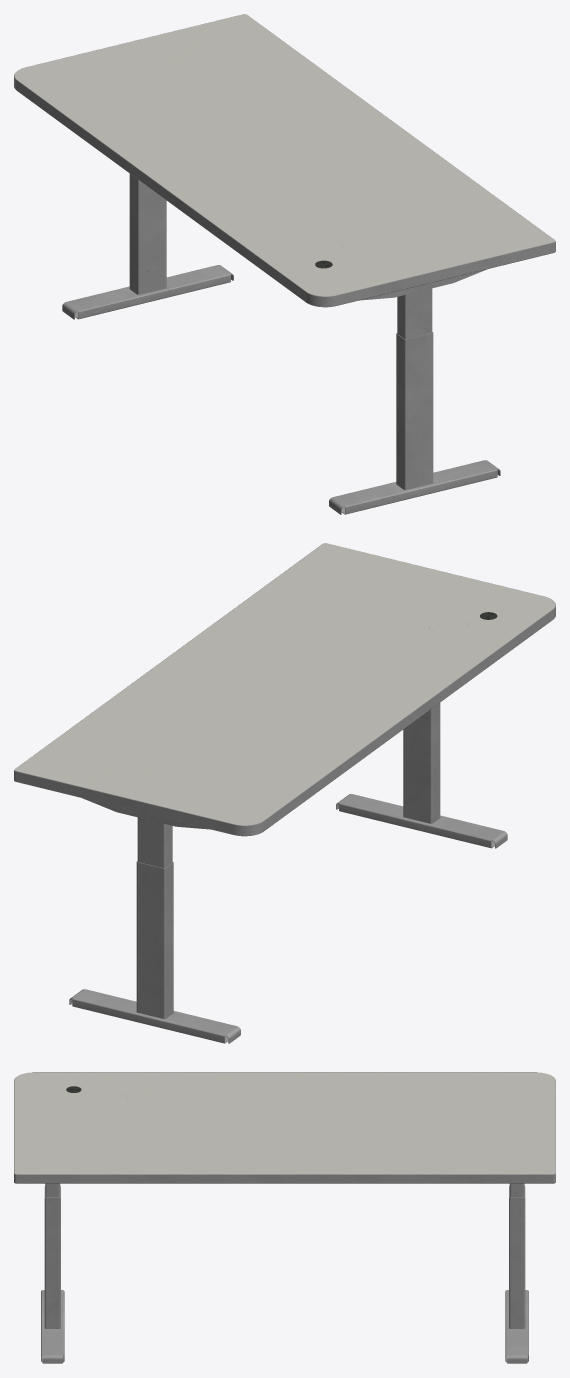
File: desk_a01.glb
3 views of the same model, one above another, from view 1: azimuth 30°, elevation 25°; view 2: azimuth 150°, elevation 25°; view 3: azimuth 270°, elevation 25° (orthographic). The views are drawn at different scales.
Parts seen in each view (by area): view 1: desk_01_mesh_00; view 2: desk_01_mesh_00; view 3: desk_01_mesh_00.
Part boxes in pixels (x1=…): desk_01_mesh_00: x1=14, y1=14, x2=555, y2=514; desk_01_mesh_00: x1=14, y1=543, x2=555, y2=1043; desk_01_mesh_00: x1=14, y1=1072, x2=555, y2=1363.
Bounding box in the file's own units: 0.8019 × 0.7592 × 1.8.
3 materials, 3 textured.
